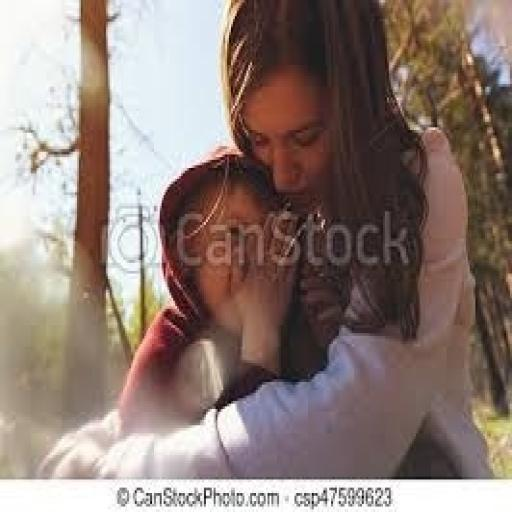hugging: (34, 0, 494, 479)
